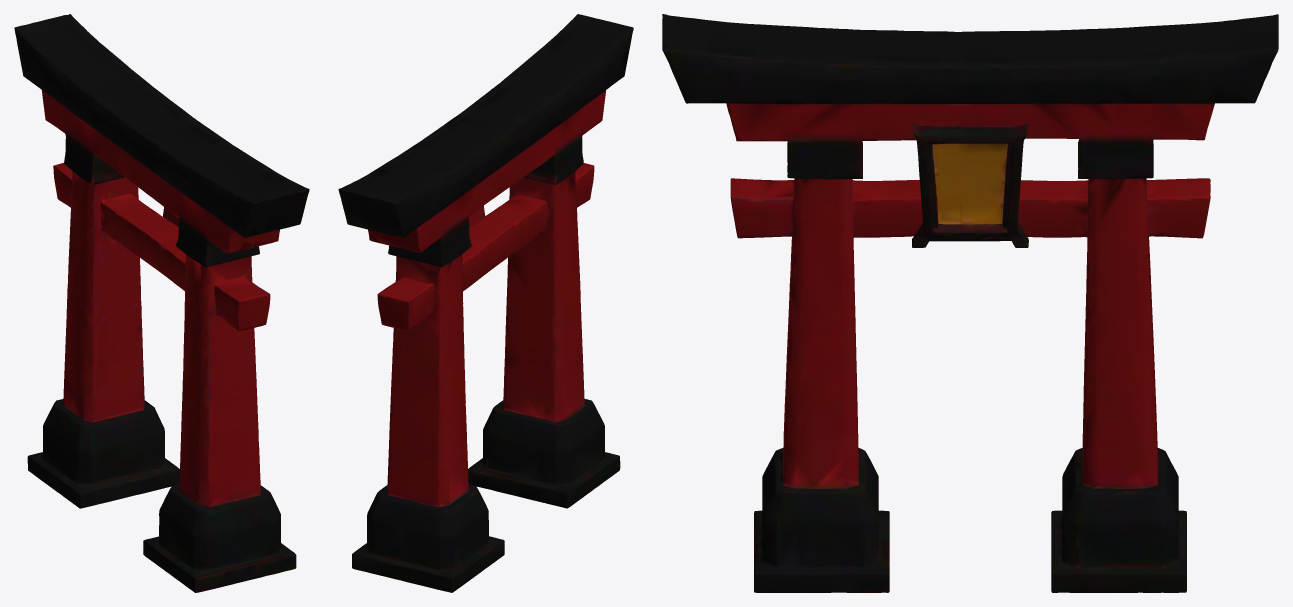
Rendered from prop_kagura_gate.fbx.
3 renders of one model, left to right at view 1: azimuth 30°, elevation 25°; view 2: azimuth 150°, elevation 25°; view 3: azimuth 270°, elevation 25°, orthographic. The views are drawn at different scales.
Visible parts, largest first — view 1: geometry_0; view 2: geometry_0; view 3: geometry_0.
Part boxes in pixels (x1=…): geometry_0: x1=14, y1=14, x2=309, y2=592; geometry_0: x1=338, y1=14, x2=633, y2=592; geometry_0: x1=662, y1=14, x2=1278, y2=592.
Size of the model in its own units: 0.2445 by 0.9509 by 1.
1 material, 1 textured.
